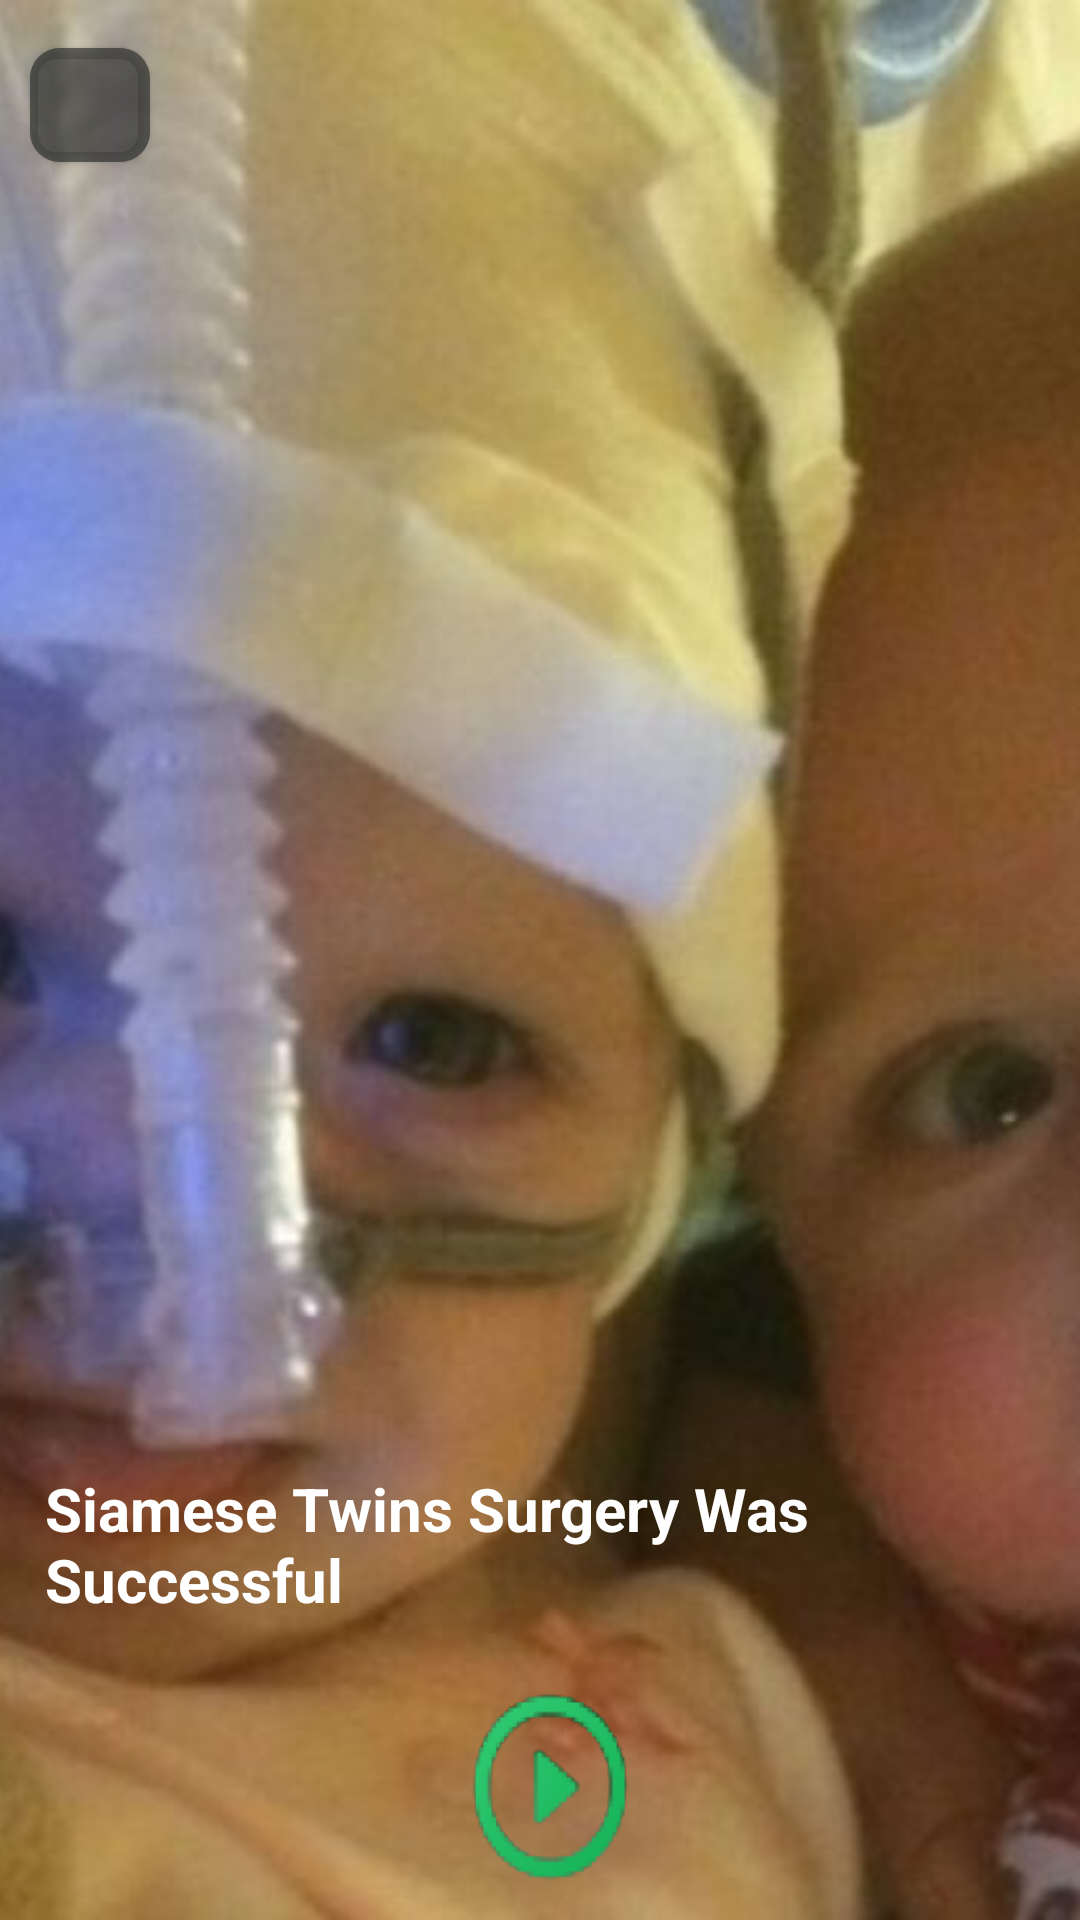

Locate icon controls on the screen. Image size 1080 × 1920, boxes as bbox=[x1, y1, x2, y2].
video: bbox=[435, 1680, 645, 1890]
